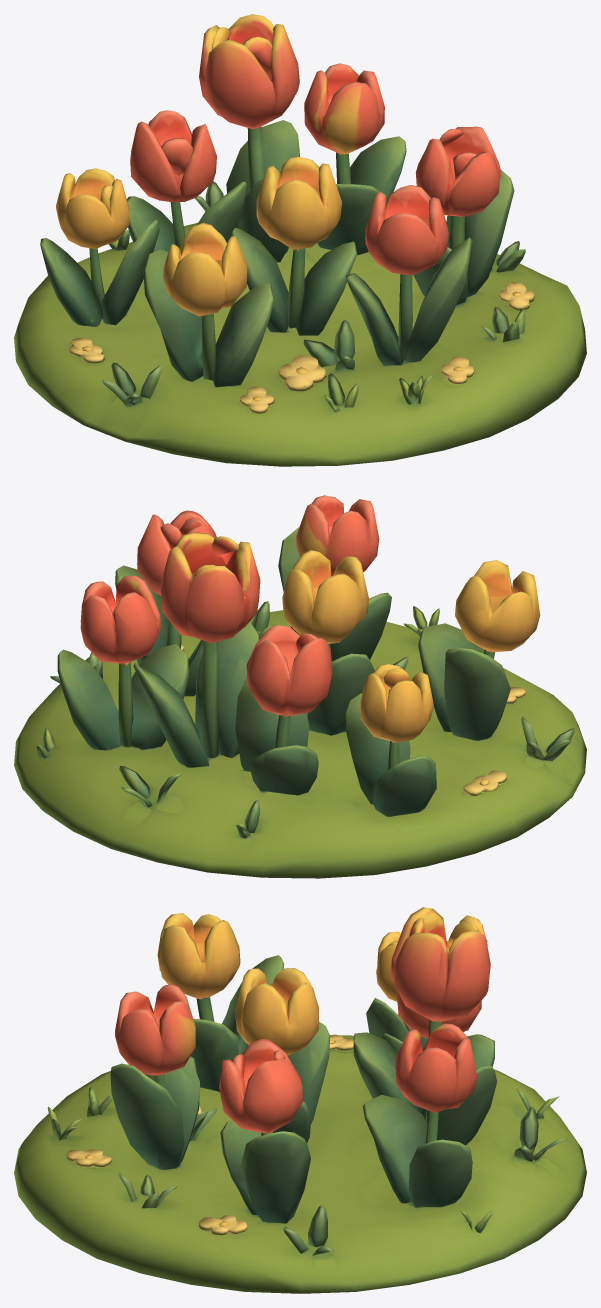
Rendered from tulip-patch.glb.
3 renders of one model, top to bottom at view 1: azimuth 30°, elevation 25°; view 2: azimuth 150°, elevation 25°; view 3: azimuth 270°, elevation 25°, orthographic.
Parts seen in each view (by area): view 1: Tulip Patch; view 2: Tulip Patch; view 3: Tulip Patch.
Boxes of the visible parts, x1,y1,x2,y2 form: Tulip Patch: [14, 14, 586, 466]; Tulip Patch: [14, 495, 586, 878]; Tulip Patch: [14, 907, 586, 1293].
Bounding box in the file's own units: 0.998 × 0.502 × 0.998.
1 material, 1 textured.
